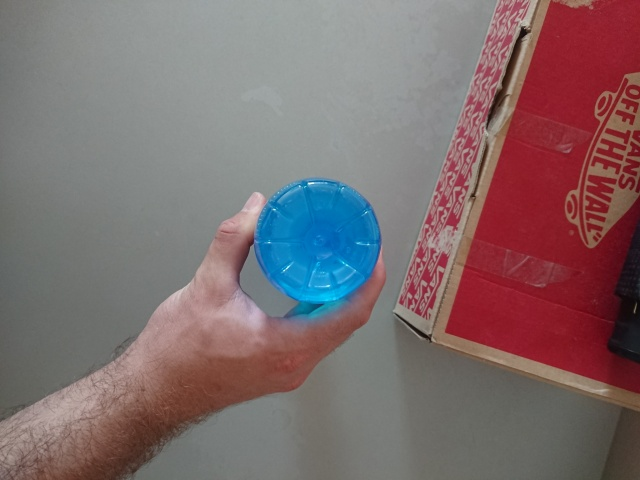Vindi Iso Sport Forest Strawberries 500mL: (251, 176, 383, 309)
